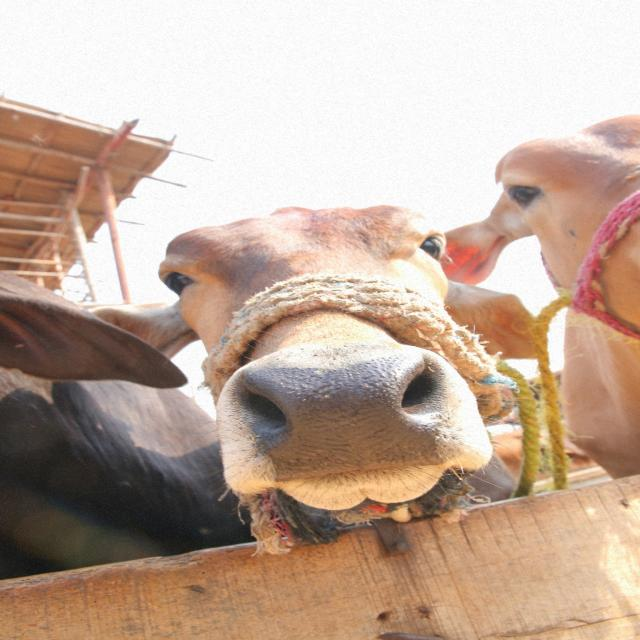muzzles: (225, 351, 481, 481)
